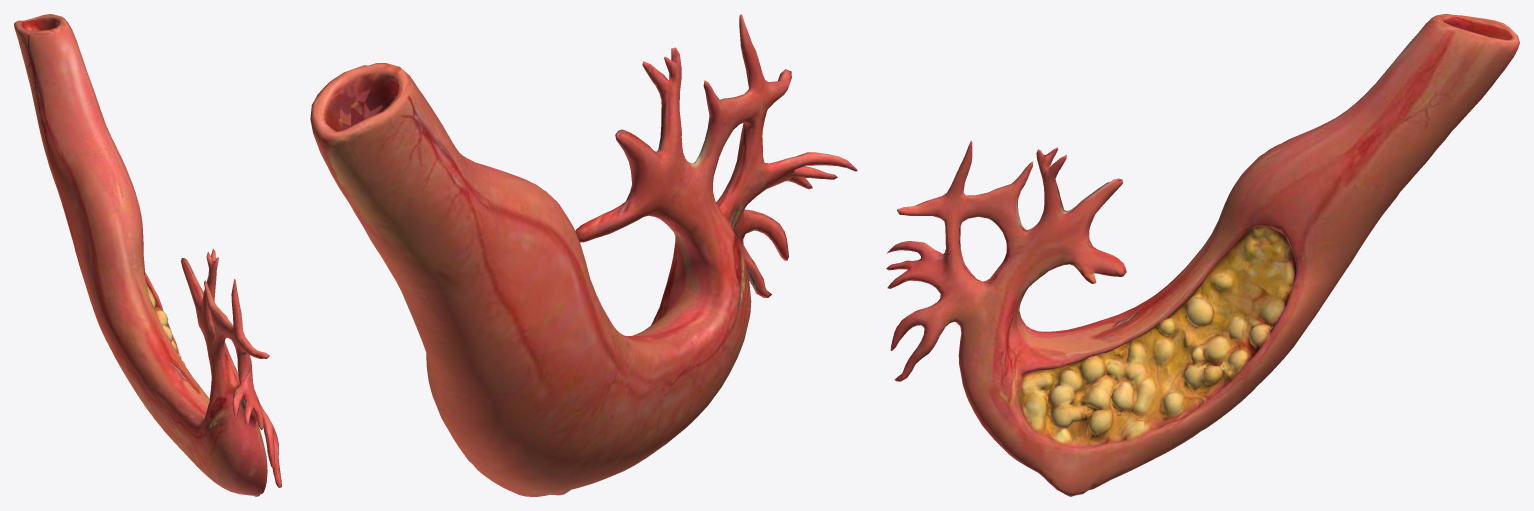
Rendered from obstructed-artery.glb.
3 views of the same model, side by side, from view 1: azimuth 30°, elevation 25°; view 2: azimuth 150°, elevation 25°; view 3: azimuth 270°, elevation 25° (orthographic). The views are drawn at different scales.
Visible parts, largest first — view 1: Mesh_0; view 2: Mesh_0; view 3: Mesh_0.
Boxes of the visible parts, x1,y1,x2,y2 form: Mesh_0: (14, 14, 281, 496); Mesh_0: (310, 14, 857, 496); Mesh_0: (886, 14, 1519, 496).
Size of the model in its own units: 0.4255 by 1.57 by 2.
Materials: 1 (1 with a texture image).
